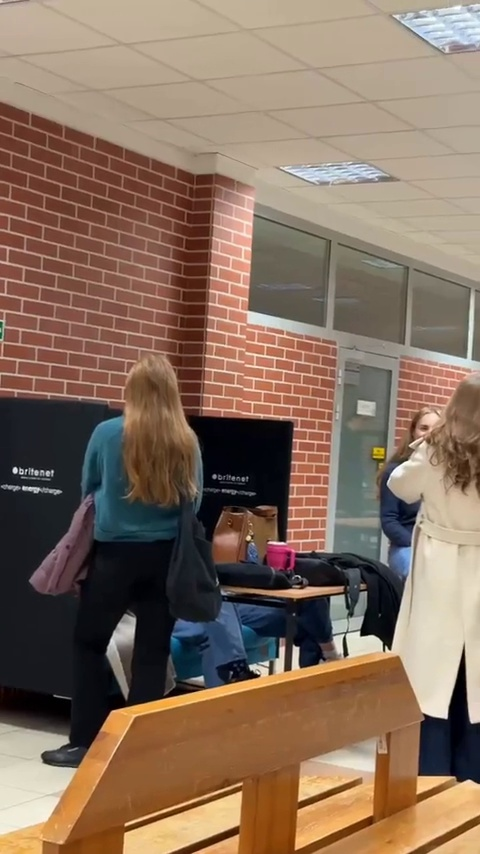no vest: (66, 338, 199, 717), (393, 357, 480, 707)
